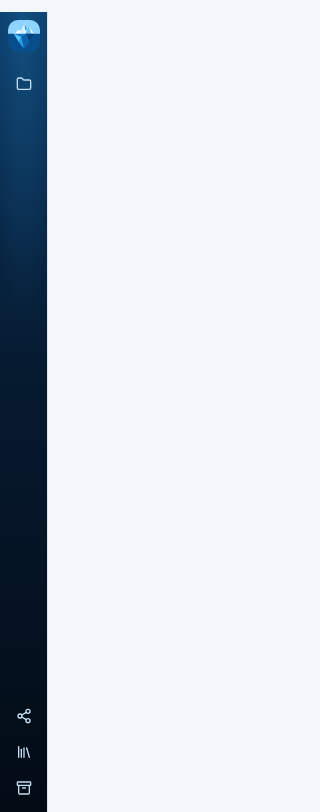
Test: AppSidebar gallery › still opens with the sidebar down to icons
Click the button "Gallery". click: click(24, 752)
box: x1=8 y1=736 x2=40 y2=768
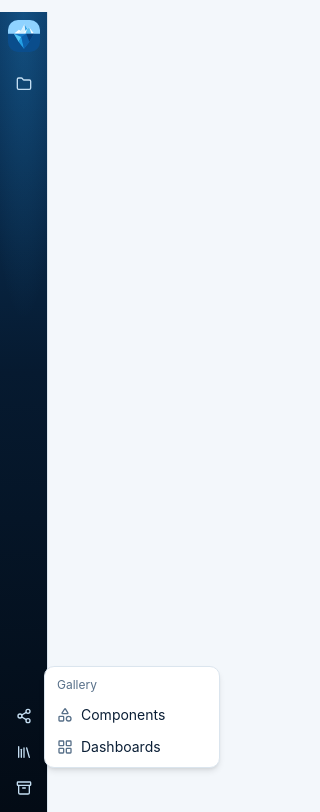
Check: the menu item "Dashboards" is shown, box x1=57 y1=738 x2=161 y2=755
